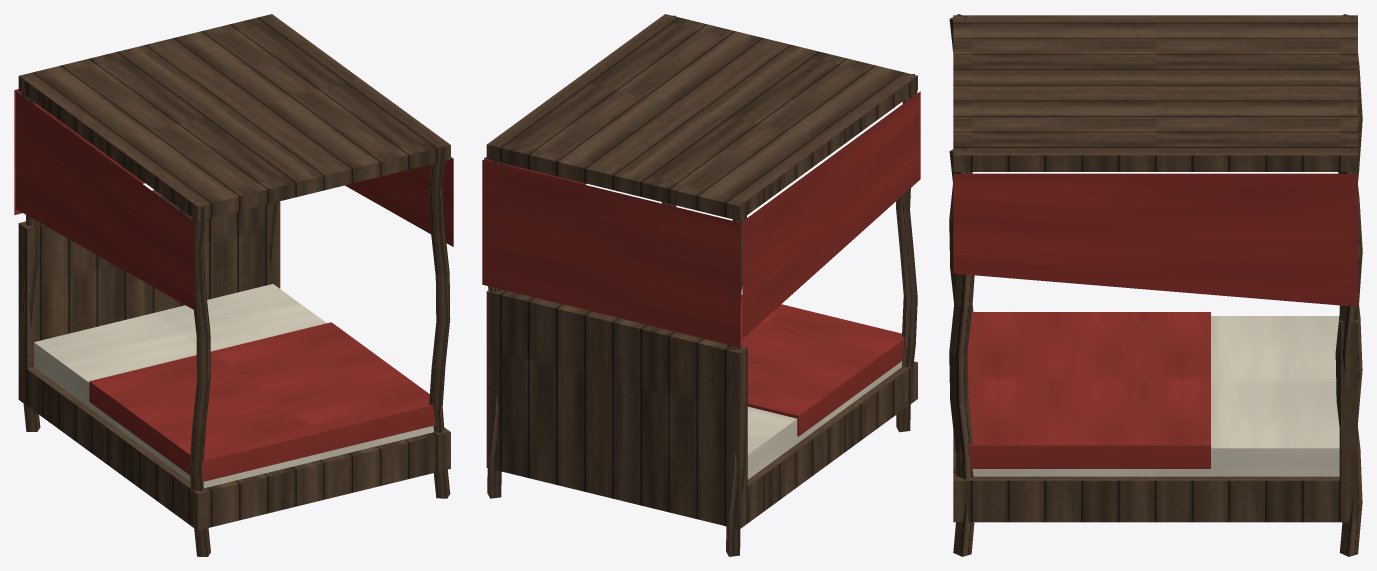
File: Bed_Canopy_1_LOD1.gltf
3 views of the same model, side by side, from view 1: azimuth 30°, elevation 25°; view 2: azimuth 150°, elevation 25°; view 3: azimuth 270°, elevation 25° (orthographic). The views are drawn at different scales.
Visible parts, largest first — view 1: Bed_Canopy_1_LOD1; view 2: Bed_Canopy_1_LOD1; view 3: Bed_Canopy_1_LOD1.
Part boxes in pixels (x1,y1,x2,y2): Bed_Canopy_1_LOD1: (14,14,453,556); Bed_Canopy_1_LOD1: (482,14,920,556); Bed_Canopy_1_LOD1: (949,14,1362,556).
Size of the model in its own units: 1.85 by 2.41 by 2.25.
Materials: 3 (3 with a texture image).
